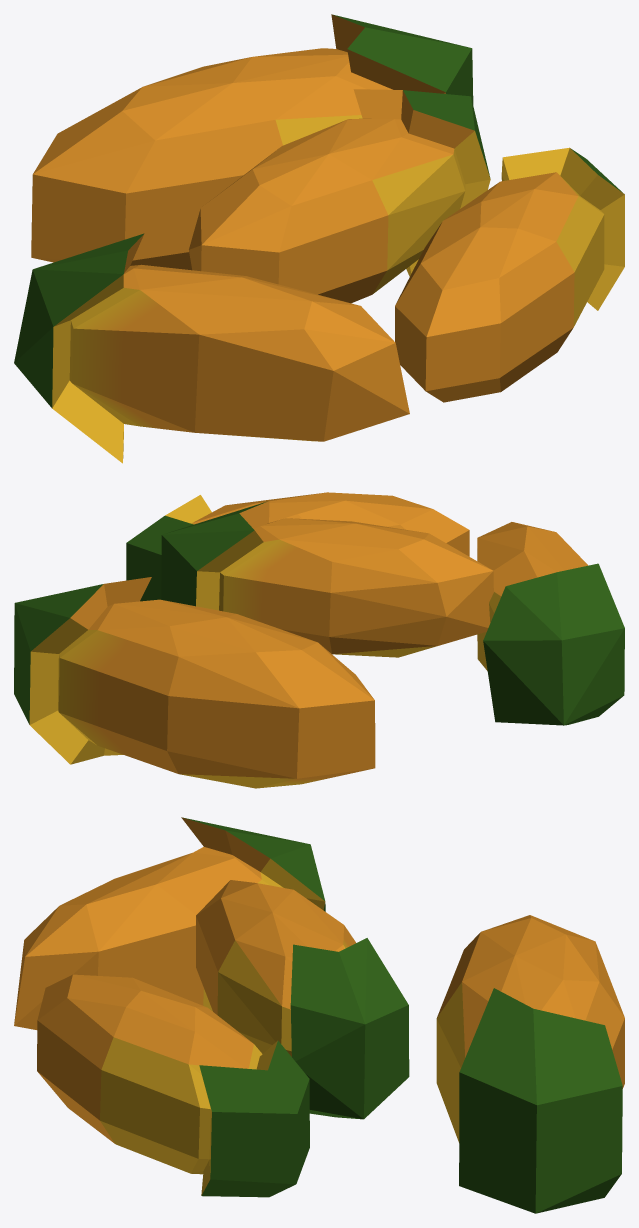
The model's file is Pile of Pineapples.fbx.
3 renders of one model, top to bottom at view 1: azimuth 30°, elevation 25°; view 2: azimuth 150°, elevation 25°; view 3: azimuth 270°, elevation 25°, orthographic. The views are drawn at different scales.
Visible parts, largest first — view 1: Pile of Pineapples; view 2: Pile of Pineapples; view 3: Pile of Pineapples.
Part boxes in pixels (<box>): Pile of Pineapples: <box>14,14,624,463</box>; Pile of Pineapples: <box>14,492,624,788</box>; Pile of Pineapples: <box>14,817,624,1213</box>.
Size of the model in its own units: 21.76 by 8.66 by 20.61.
